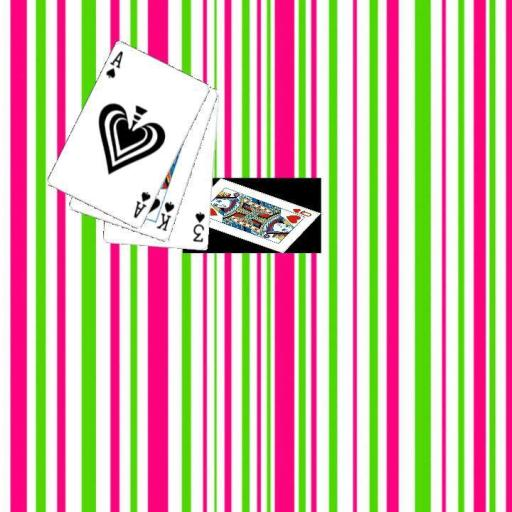card-corner: (154, 198, 176, 232), (130, 188, 152, 220), (102, 48, 124, 80), (190, 209, 206, 244)
